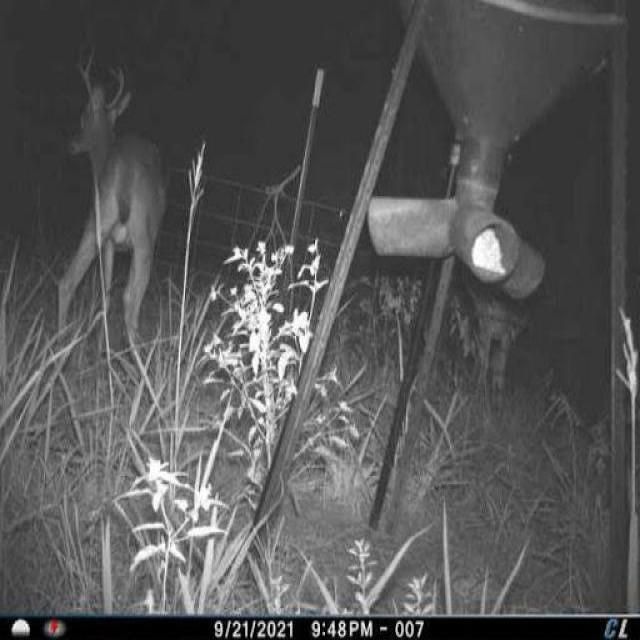deer: (58, 34, 172, 394)
